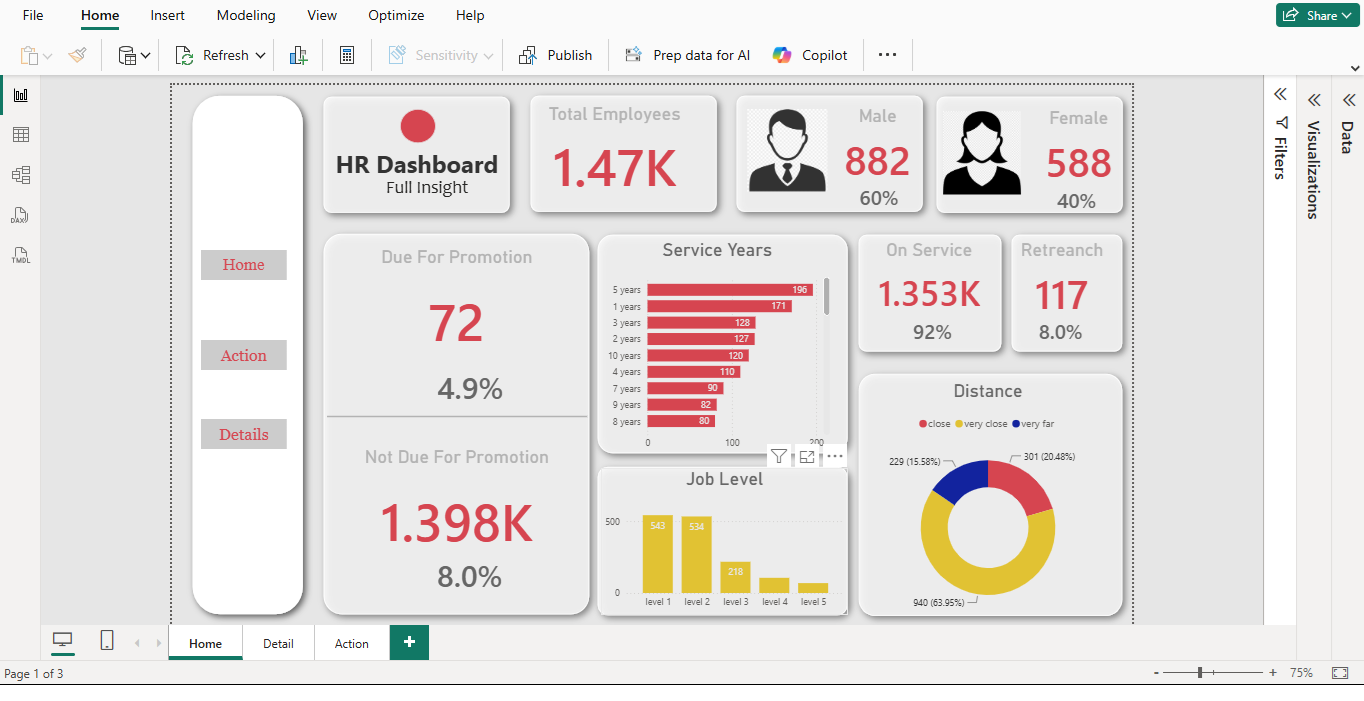

What the dashboard file says about the page in this screenshot:
{"tool":"powerbi","page":{"name":"Home","canvas":[1280,720],"ordinal":0},"visuals":[{"type":"shape","box":[188.3,1.7,276.3,183.3],"z":0},{"type":"shape","box":[463.3,0,276.3,183.3],"z":1000},{"type":"shape","box":[738.3,0,276.3,183.3],"z":2000},{"type":"shape","box":[1004.7,1.8,276.3,183.3],"z":3000},{"type":"shape","box":[188.3,183.3,382.5,536.2],"z":4000},{"type":"shape","box":[553.3,185,361.7,320],"z":5000},{"type":"shape","box":[553.3,495,361.7,226.7],"z":6000},{"type":"shape","box":[901.4,185.7,218.6,184.3],"z":7000},{"type":"shape","box":[1105.7,185.7,175.7,184.3],"z":8000},{"type":"shape","box":[901.7,370,380,351.7],"z":9000},{"type":"shape","box":[303.3,31.7,47.8,45.6],"z":10000},{"type":"textbox","box":[211.7,76.7,228.9,54.4],"z":11000},{"type":"textbox","box":[230.4,116.3,218.9,43.3],"z":12000},{"type":"cardVisual","title":"Total Employees","fields":{"Data":["Table.Totale Emp"]},"box":[466.7,23.3,247.1,124.3],"z":13000},{"type":"cardVisual","title":"Male","fields":{"Data":["Table.Male"]},"box":[877.1,27.1,127.1,100],"z":14000},{"type":"cardVisual","title":"Total Employees","fields":{"Data":["Table.%Male"]},"box":[881.7,115,123.3,65],"z":15000},{"type":"cardVisual","title":"Female","fields":{"Data":["Table.Female"]},"box":[1145.7,30,127.1,100],"z":16000},{"type":"cardVisual","title":"Total Employees","fields":{"Data":["Table.%Female"]},"box":[1155,118.3,103.3,65],"z":17000},{"type":"image","box":[740,31.4,161.4,110],"z":18000},{"type":"image","box":[1028.6,31.4,104.3,117.1],"z":19000},{"type":"cardVisual","title":"Due For Promotion","fields":{"Data":["Table.Due"]},"box":[211.7,215,335.7,154.3],"z":20000},{"type":"cardVisual","title":"Total Employees","fields":{"Data":["Table.%Due"]},"box":[328.3,368.3,140,65],"z":21000},{"type":"cardVisual","title":"Not Due For Promotion","fields":{"Data":["Table.Not Due"]},"box":[211.7,481.7,335.7,154.3],"z":22000},{"type":"cardVisual","title":"Total Employees","fields":{"Data":["Table.%Not Due"]},"box":[315,620,165,63.3],"z":23000},{"type":"shape","box":[206.7,431.7,347.1,20],"z":24000},{"type":"barChart","title":"Service Years","fields":{"Category":["HR Analytics Data.Service Year"],"Y":["Table.Totale Emp"]},"box":[571.7,205,310,290],"z":25000},{"type":"columnChart","title":"Job Level","fields":{"Category":["HR Analytics Data.Job Levels"],"Y":["Table.Totale Emp"]},"box":[571.7,510,330,196.7],"z":26000},{"type":"cardVisual","title":"Retreanch","fields":{"Data":["Table.lay-off"]},"box":[1105.7,205.7,162.9,100],"z":27000},{"type":"cardVisual","title":"Total Employees","fields":{"Data":["Table.%lay"]},"box":[1132.9,292.9,103.3,65],"z":28000},{"type":"cardVisual","title":"On Service","fields":{"Data":["Table.Onservice"]},"box":[914.3,205.7,190,100],"z":29000},{"type":"cardVisual","title":"On Service","fields":{"Data":["Table.%Onservicey"]},"box":[962.9,292.9,103.3,65],"z":30000},{"type":"donutChart","title":"Distance","fields":{"Y":["Table.Totale Emp"],"Series":["HR Analytics Data.Distance"]},"box":[917.1,392.9,341.4,327.1],"z":31000},{"type":"shape","box":[13.3,0,175.4,720],"z":32000},{"type":"actionButton","box":[38.6,220,114.3,40],"z":33000},{"type":"actionButton","box":[38.6,340,114.3,40],"z":34000},{"type":"actionButton","box":[38.6,445.7,114.3,40],"z":35000}]}

Visuals, with their boxes on the page's 1280x720 design canvas (x1, y1, x2, y2). These are canvas units, not pixel positions in the 1364x701 screenshot, which may show the page scaled, cropped or inside an application window:
shape: box=[188, 2, 465, 185]
shape: box=[463, 0, 740, 183]
shape: box=[738, 0, 1015, 183]
shape: box=[1005, 2, 1281, 185]
shape: box=[188, 183, 571, 720]
shape: box=[553, 185, 915, 505]
shape: box=[553, 495, 915, 722]
shape: box=[901, 186, 1120, 370]
shape: box=[1106, 186, 1281, 370]
shape: box=[902, 370, 1282, 722]
shape: box=[303, 32, 351, 77]
textbox: box=[212, 77, 441, 131]
textbox: box=[230, 116, 449, 160]
"Total Employees" cardVisual: box=[467, 23, 714, 148]
"Male" cardVisual: box=[877, 27, 1004, 127]
"Total Employees" cardVisual: box=[882, 115, 1005, 180]
"Female" cardVisual: box=[1146, 30, 1273, 130]
"Total Employees" cardVisual: box=[1155, 118, 1258, 183]
image: box=[740, 31, 901, 141]
image: box=[1029, 31, 1133, 148]
"Due For Promotion" cardVisual: box=[212, 215, 547, 369]
"Total Employees" cardVisual: box=[328, 368, 468, 433]
"Not Due For Promotion" cardVisual: box=[212, 482, 547, 636]
"Total Employees" cardVisual: box=[315, 620, 480, 683]
shape: box=[207, 432, 554, 452]
"Service Years" barChart: box=[572, 205, 882, 495]
"Job Level" columnChart: box=[572, 510, 902, 707]
"Retreanch" cardVisual: box=[1106, 206, 1269, 306]
"Total Employees" cardVisual: box=[1133, 293, 1236, 358]
"On Service" cardVisual: box=[914, 206, 1104, 306]
"On Service" cardVisual: box=[963, 293, 1066, 358]
"Distance" donutChart: box=[917, 393, 1258, 720]
shape: box=[13, 0, 189, 720]
actionButton: box=[39, 220, 153, 260]
actionButton: box=[39, 340, 153, 380]
actionButton: box=[39, 446, 153, 486]
